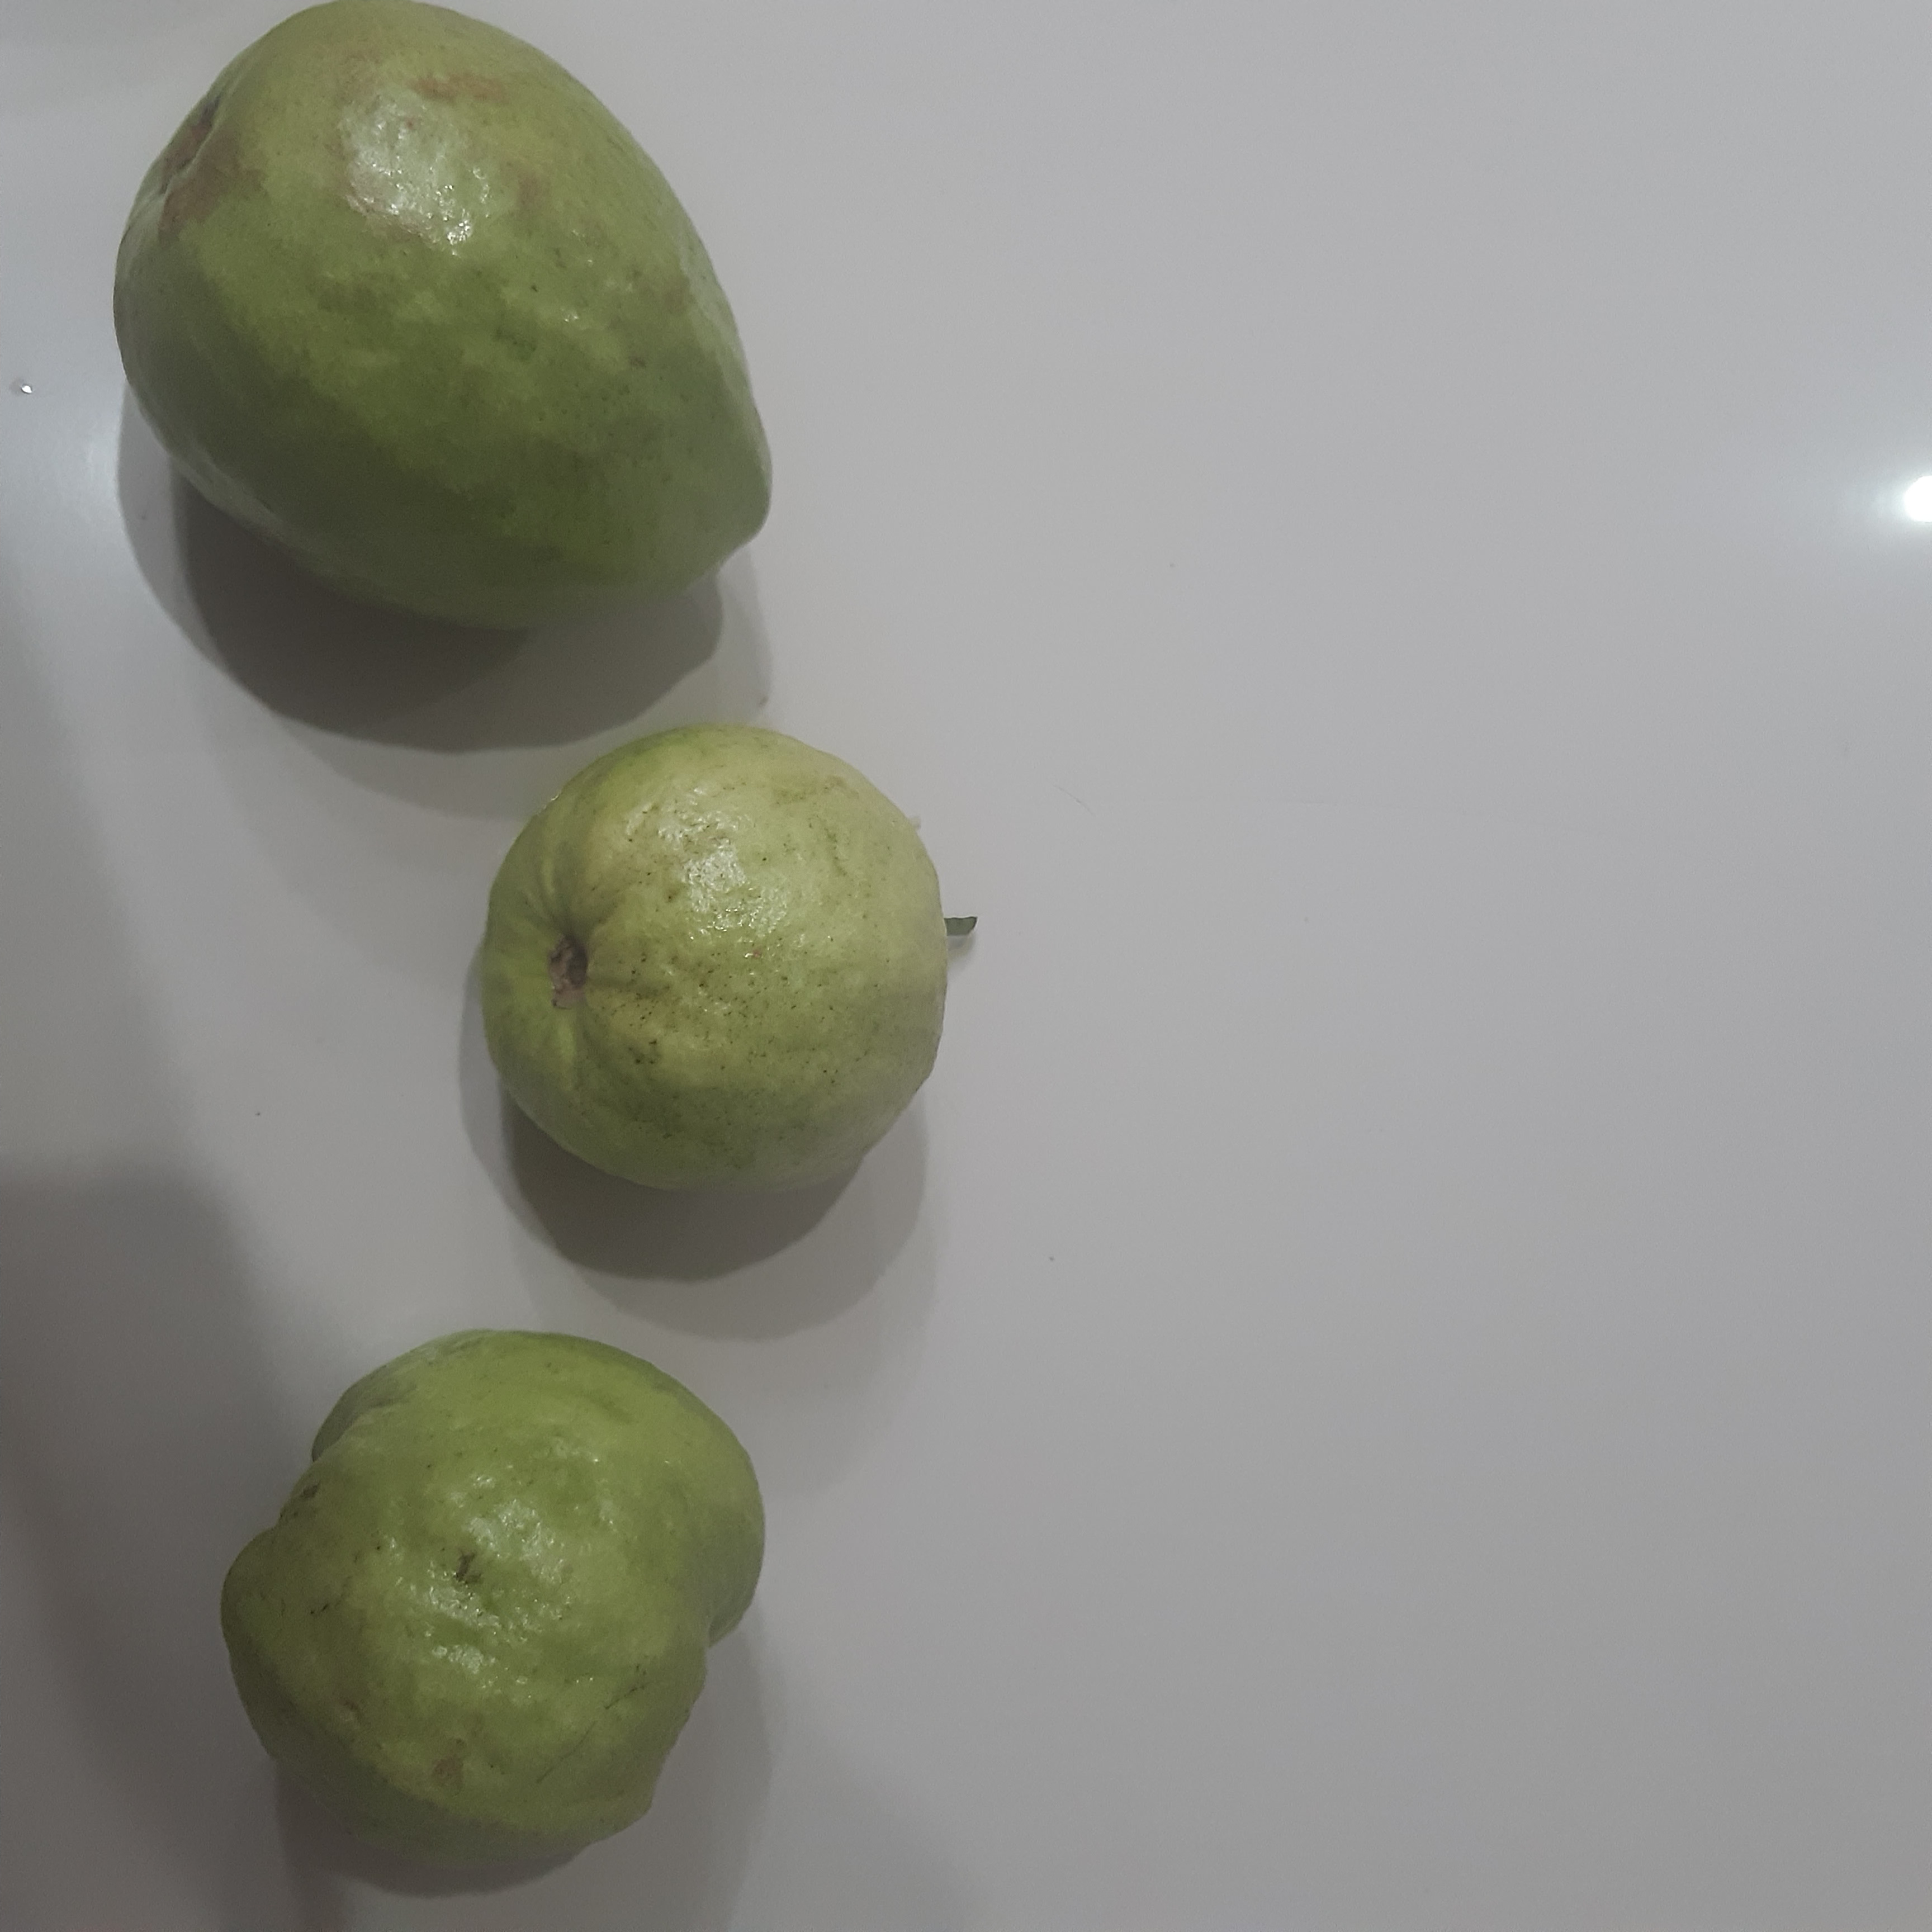Oi: (111, 0, 773, 635), (219, 1330, 764, 1877), (481, 725, 948, 1194)
